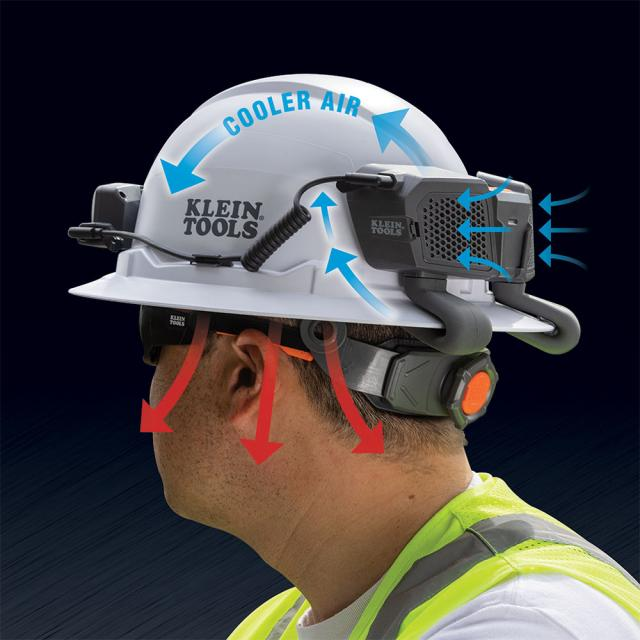helmet: (46, 58, 570, 360)
no-goggles: (122, 308, 306, 358)
vest: (214, 466, 640, 640)
